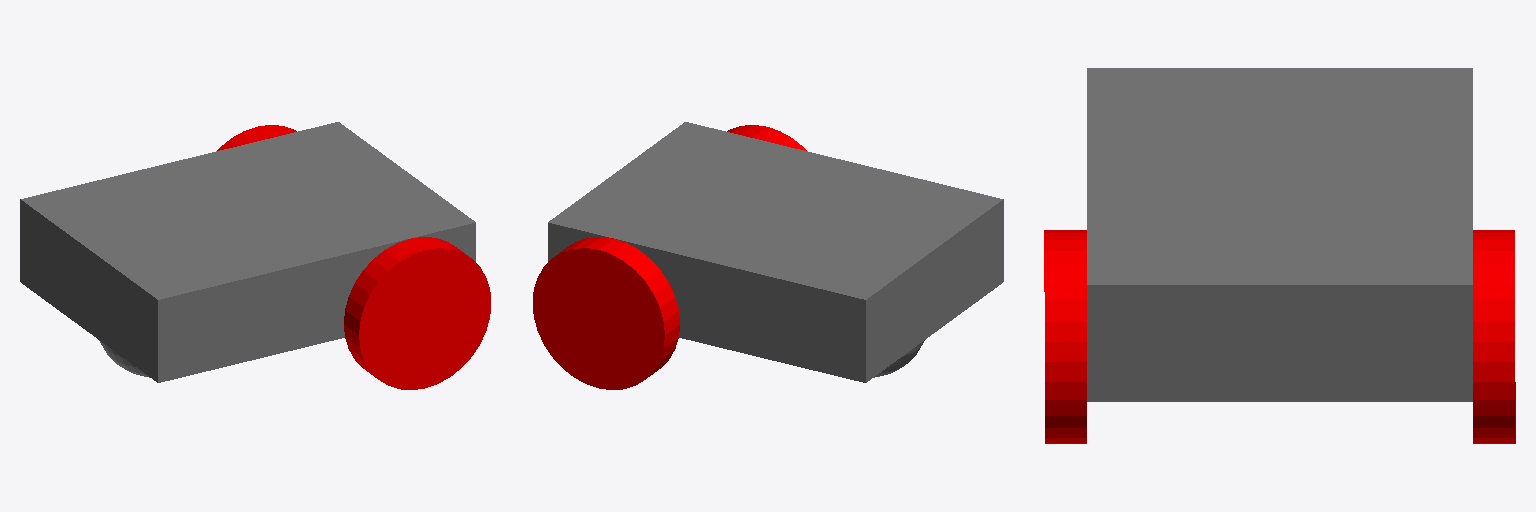
The robot description file, URDF, robot "dtw_robot":
<?xml version="1.0" ?>
<!-- =================================================================================== -->
<!-- |    This document was autogenerated by xacro from dtw_robot1_2.xacro             | -->
<!-- |    EDITING THIS FILE BY HAND IS NOT RECOMMENDED                                 | -->
<!-- =================================================================================== -->
<robot name="dtw_robot" xmlns:xacro="http://ros.org/wiki/xacro">
  <link name="base_link"/>
  <joint name="body_joint" type="fixed">
    <parent link="base_link"/>
    <child link="body_link"/>
    <origin rpy="0 0 0" xyz="-0.07 0 0.07"/>
  </joint>
  <link name="body_link">
    <visual>
      <origin rpy="0 0 0" xyz="0 0 0"/>
      <geometry>
        <box size="0.24 0.18 0.06"/>
      </geometry>
      <material name="gray">
        <color rgba="0.5 0.5 0.5 2.5"/>
      </material>
    </visual>
  </link>
  <joint name="right_wheel_joint" type="continuous">
    <parent link="base_link"/>
    <child link="right_wheel_link"/>
    <axis xyz="0 0 1"/>
    <origin rpy="-1.57 0 0" xyz="0 -0.1 0.05"/>
  </joint>
  <link name="right_wheel_link">
    <visual>
      <geometry>
        <cylinder length="0.02" radius="0.05"/>
      </geometry>
      <material name="red"/>
    </visual>
  </link>
  <joint name="left_wheel_joint" type="continuous">
    <parent link="base_link"/>
    <child link="left_wheel_link"/>
    <axis xyz="0 0 1"/>
    <origin rpy="-1.57 0 0" xyz="0 0.1 0.05"/>
  </joint>
  <link name="left_wheel_link">
    <visual>
      <geometry>
        <cylinder length="0.02" radius="0.05"/>
      </geometry>
      <material name="red">
        <color rgba="1.0 0.0 0.0 2.5"/>
      </material>
    </visual>
  </link>
  <joint name="ball_joint" type="fixed">
    <parent link="base_link"/>
    <child link="ball_link"/>
    <origin rpy="0 0 0" xyz="-0.14 0 0.04"/>
  </joint>
  <link name="ball_link">
    <visual>
      <origin rpy="0 0 0" xyz="0 0 0"/>
      <geometry>
        <sphere radius="0.04"/>
      </geometry>
      <material name="gray">
        <color rgba="0.5 0.5 0.5 2.5"/>
      </material>
    </visual>
  </link>
</robot>

--- Render facts (derived) ---
The picture shows the robot from 3 angles, left to right: view 1: azimuth 30°, elevation 25°; view 2: azimuth 150°, elevation 25°; view 3: azimuth 270°, elevation 25°; orthographic projection.
Model dtw_robot with 5 links and 4 joints (2 continuous, 2 fixed), rooted at base_link, posed all joints at 0.
Visible links, largest first — view 1: body_link, right_wheel_link, left_wheel_link; view 2: body_link, left_wheel_link, right_wheel_link; view 3: body_link, right_wheel_link, left_wheel_link.
Boxes of the visible links, x1,y1,x2,y2 form: body_link: (20, 122, 475, 382); right_wheel_link: (344, 237, 490, 389); left_wheel_link: (217, 125, 296, 150); body_link: (548, 122, 1003, 382); left_wheel_link: (533, 237, 679, 389); right_wheel_link: (727, 125, 806, 150); body_link: (1087, 68, 1472, 401); right_wheel_link: (1044, 230, 1086, 443); left_wheel_link: (1473, 230, 1515, 443).
Size in the robot's own frame: 0.24 by 0.2201 by 0.1 metres.
Geometry: primitives only (box / cylinder / sphere), no mesh files.